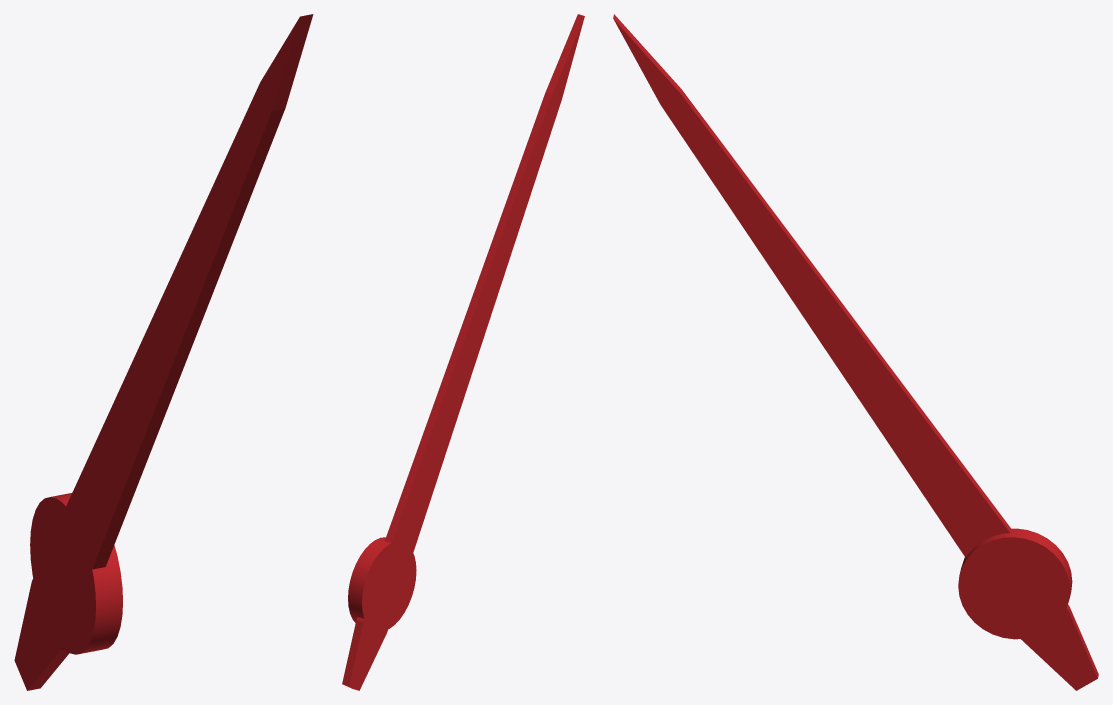
File: 指针_保留表盘中心轴心.glb
The picture shows the model from 3 angles, left to right: view 1: azimuth 30°, elevation 25°; view 2: azimuth 150°, elevation 25°; view 3: azimuth 270°, elevation 25°; orthographic projection. The views are drawn at different scales.
Visible parts, largest first — view 1: 指针; view 2: 指针; view 3: 指针.
Part boxes in pixels (box(x1,y1,x2,y2)): 指针: box(14, 14, 313, 690); 指针: box(342, 14, 584, 690); 指针: box(613, 14, 1098, 690).
Size of the model in its own units: 0.0026 by 0.0283 by 0.0191.
